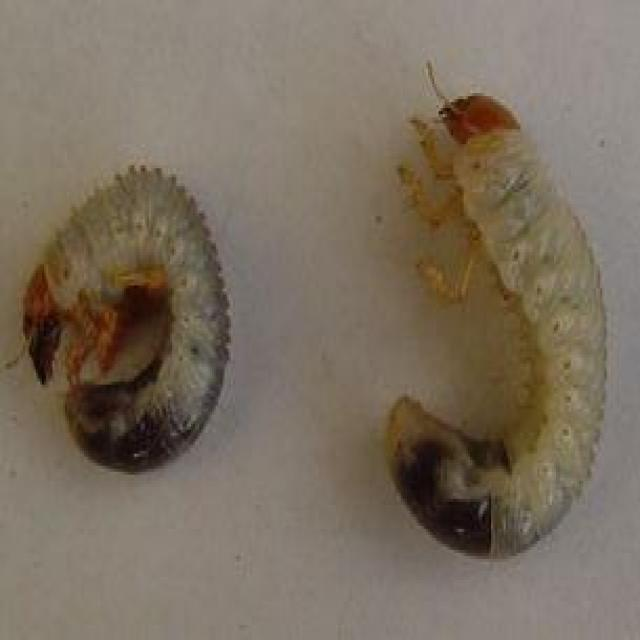Grub-Adult-: (370, 51, 614, 558), (19, 153, 236, 488)
